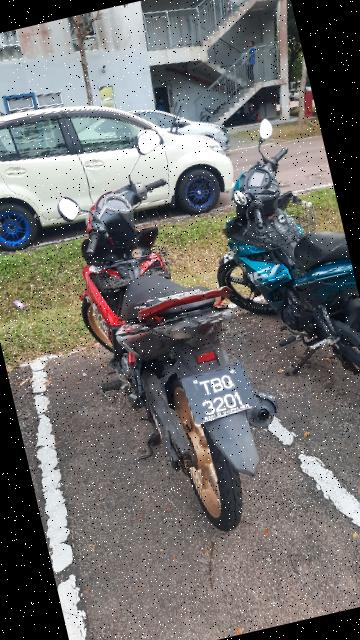License_Plate: (179, 355, 261, 428)
car: (1, 54, 243, 268)
motorcycle: (43, 102, 310, 553), (184, 89, 360, 434)
